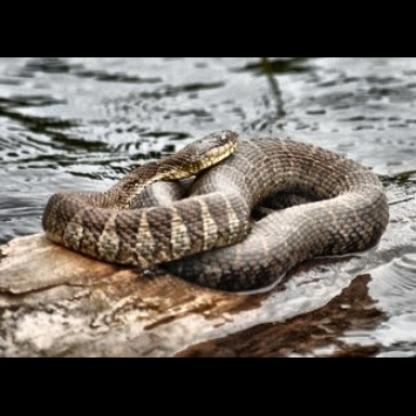Snake: (7, 116, 414, 317)
